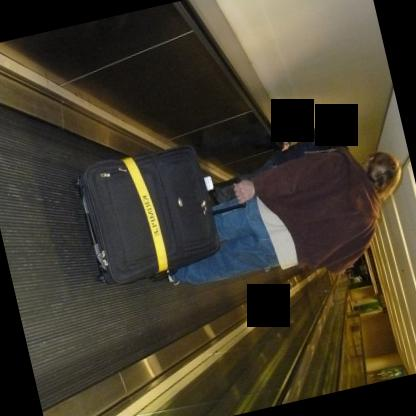suitcase: (72, 145, 245, 285)
